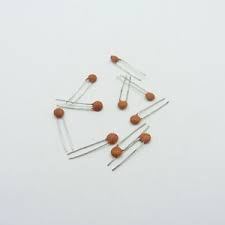ceramic capacitor: (42, 99, 71, 123), (101, 48, 132, 67), (100, 128, 125, 147), (86, 99, 107, 121), (79, 72, 103, 90), (136, 131, 155, 148), (140, 89, 158, 104), (126, 113, 150, 124), (115, 97, 134, 109)
